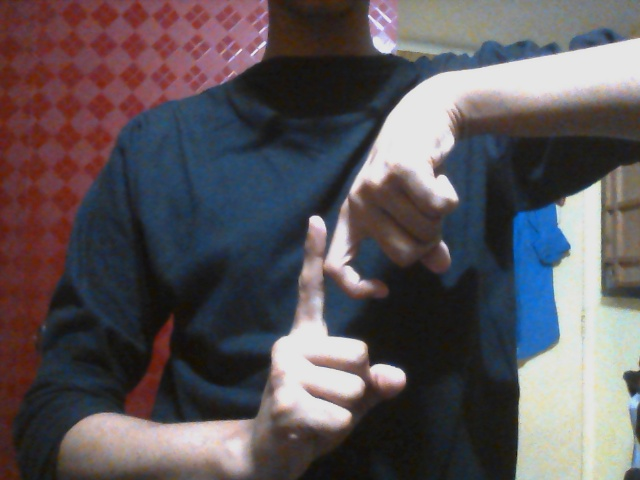K: (263, 184, 448, 462)
